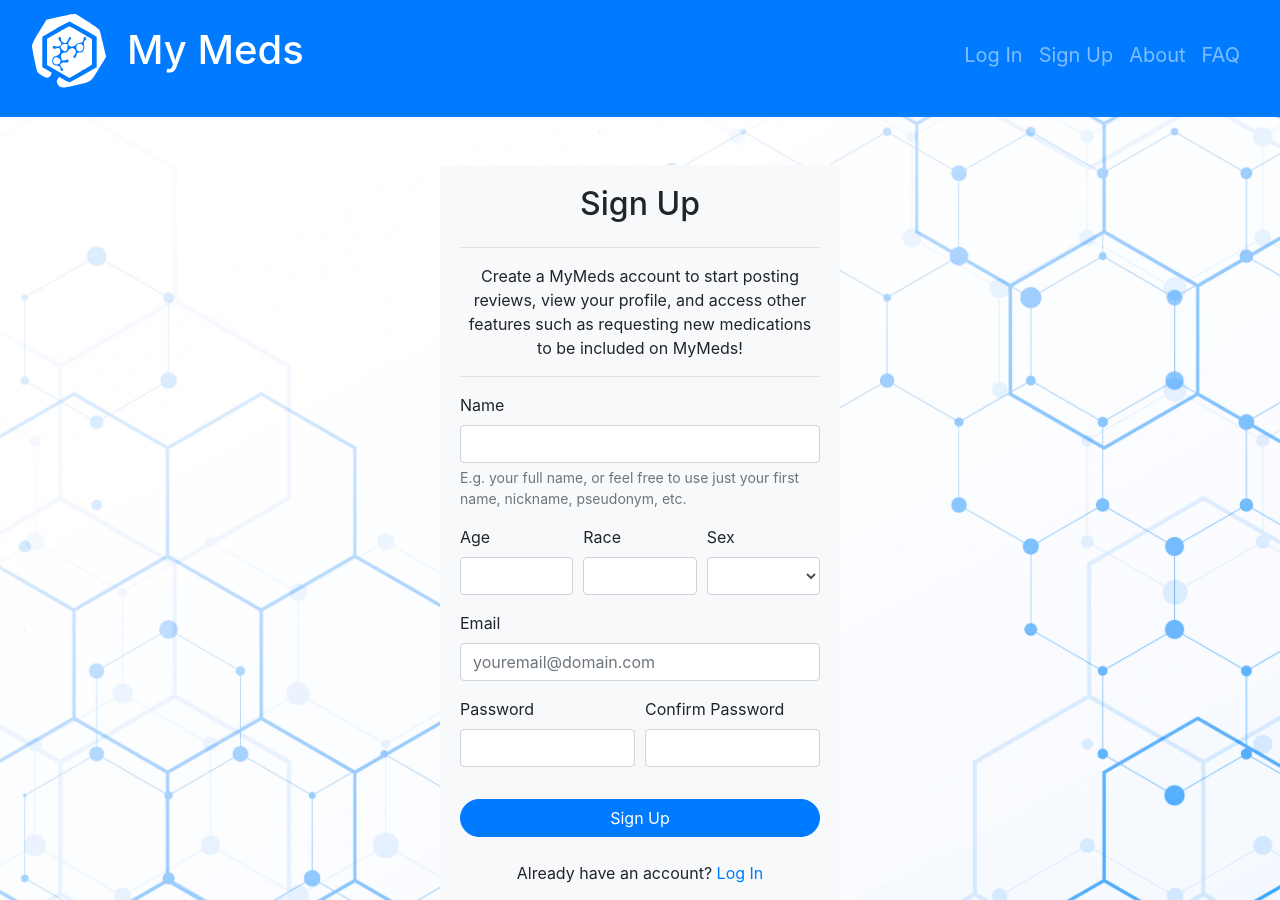
Button disabled when Race has invalid characters
In the field with test id "race-input": (640, 576) x1=583 y1=557 x2=697 y2=595, type "African23 American2"
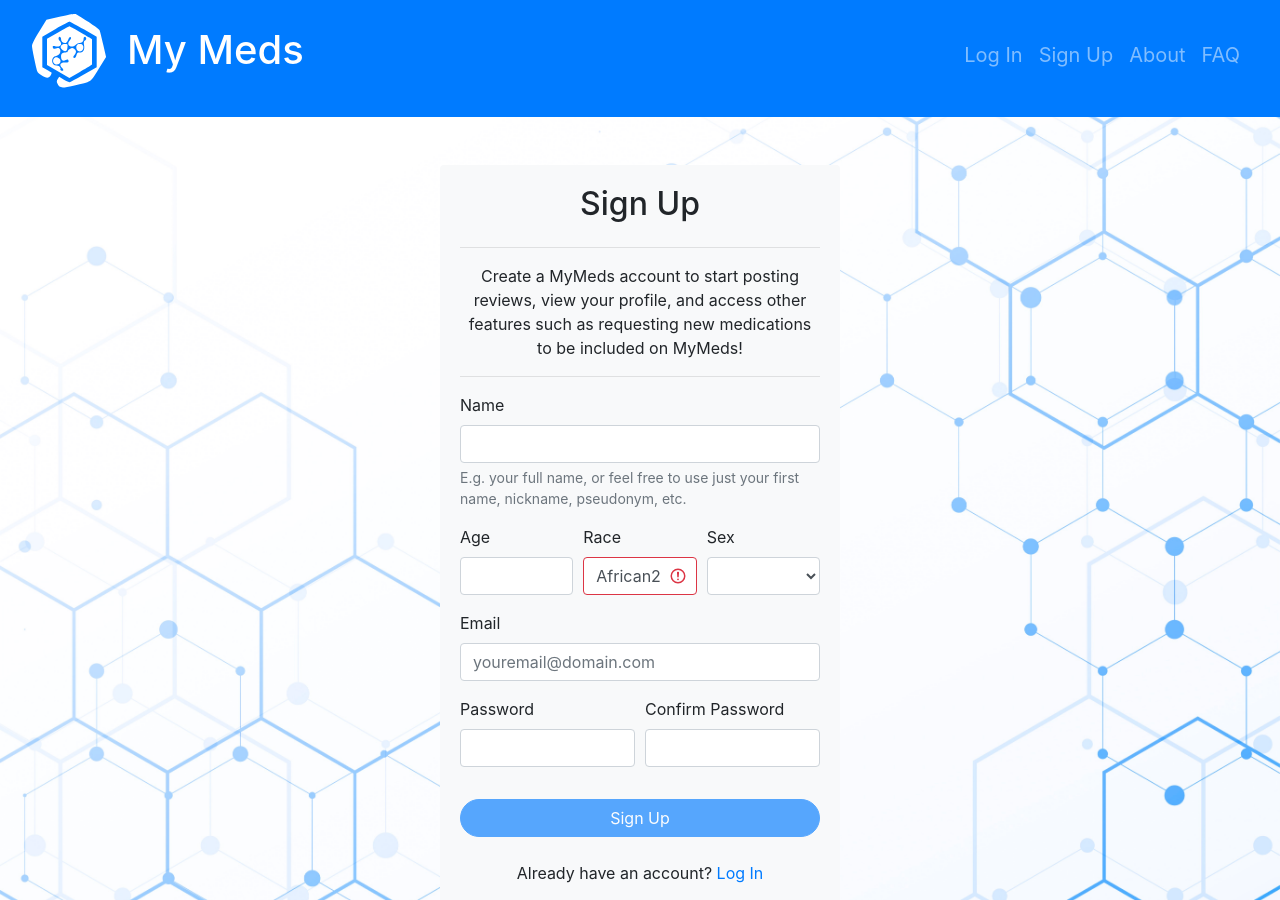
Now the button with test id "button" is disabled, box x1=460 y1=799 x2=820 y2=837
